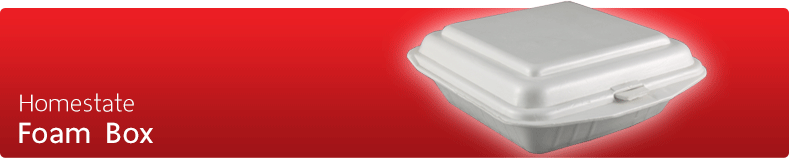Foam Box: (400, 1, 713, 158)
